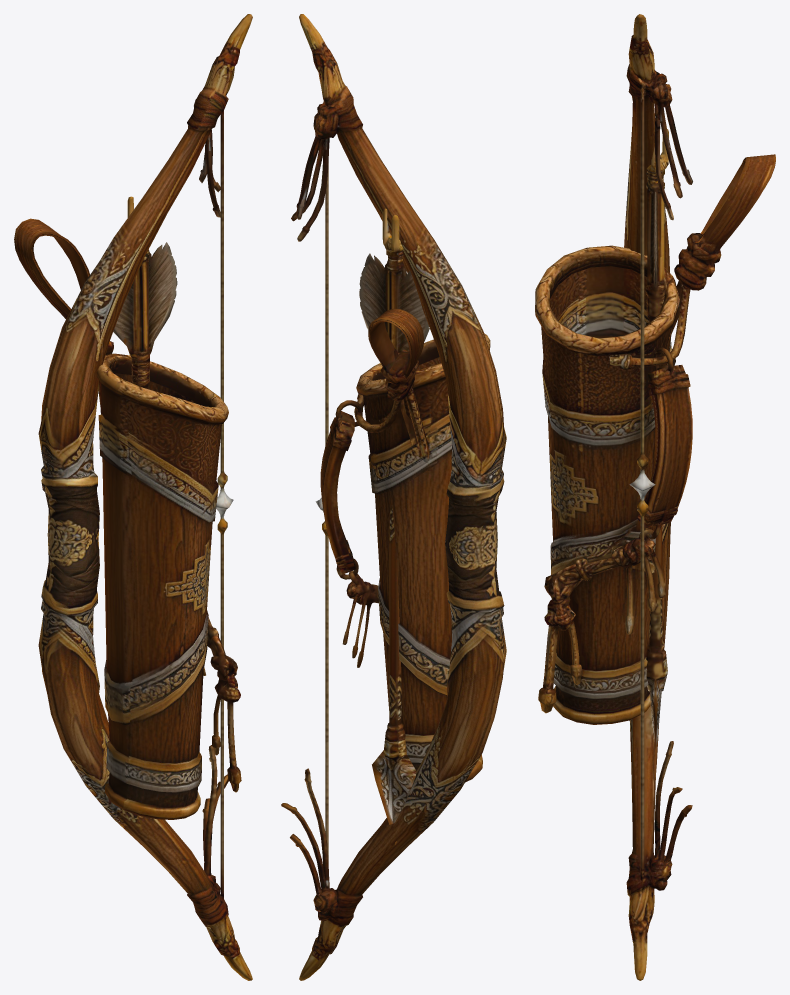
Rendered from benjamin_arma.glb.
The picture shows the model from 3 angles, left to right: view 1: azimuth 30°, elevation 25°; view 2: azimuth 150°, elevation 25°; view 3: azimuth 270°, elevation 25°; orthographic projection.
Parts seen in each view (by area): view 1: carcaj, arco, flecha, cuerda; view 2: arco, carcaj, flecha, cuerda; view 3: carcaj, arco, flecha, cuerda.
Boxes of the visible parts, x1,y1,x2,y2 form: carcaj: (14, 218, 241, 819); arco: (38, 14, 252, 980); flecha: (113, 196, 177, 388); cuerda: (217, 111, 227, 898); arco: (281, 14, 506, 980); carcaj: (320, 308, 490, 782); flecha: (359, 208, 429, 844); cuerda: (322, 163, 328, 860); carcaj: (535, 154, 775, 724); arco: (624, 14, 692, 980); flecha: (645, 129, 668, 749); cuerda: (637, 78, 648, 892).
Bounding box in the file's own units: 0.2246 × 0.9995 × 0.2261.
Materials: 1 (1 with a texture image).
